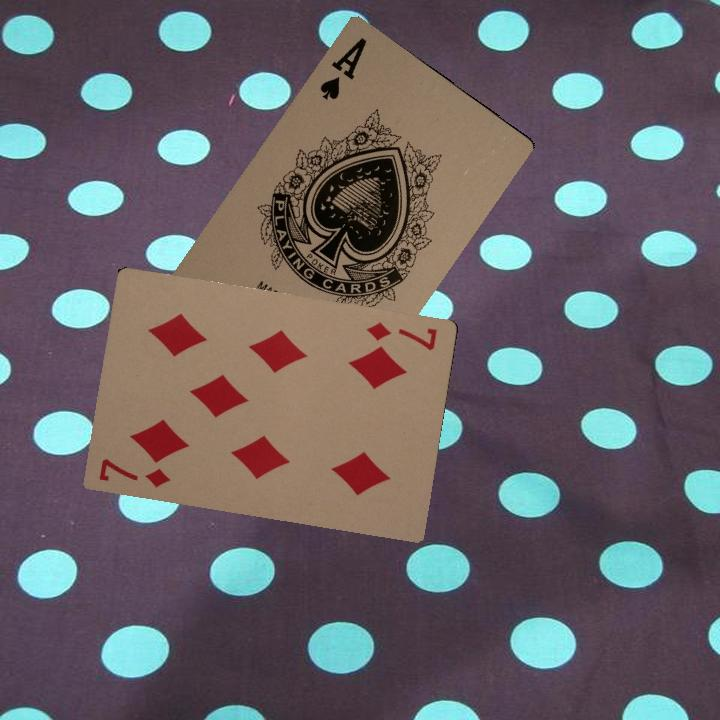7d: (94, 454, 173, 490), (363, 318, 440, 353)
As: (315, 33, 370, 103)
